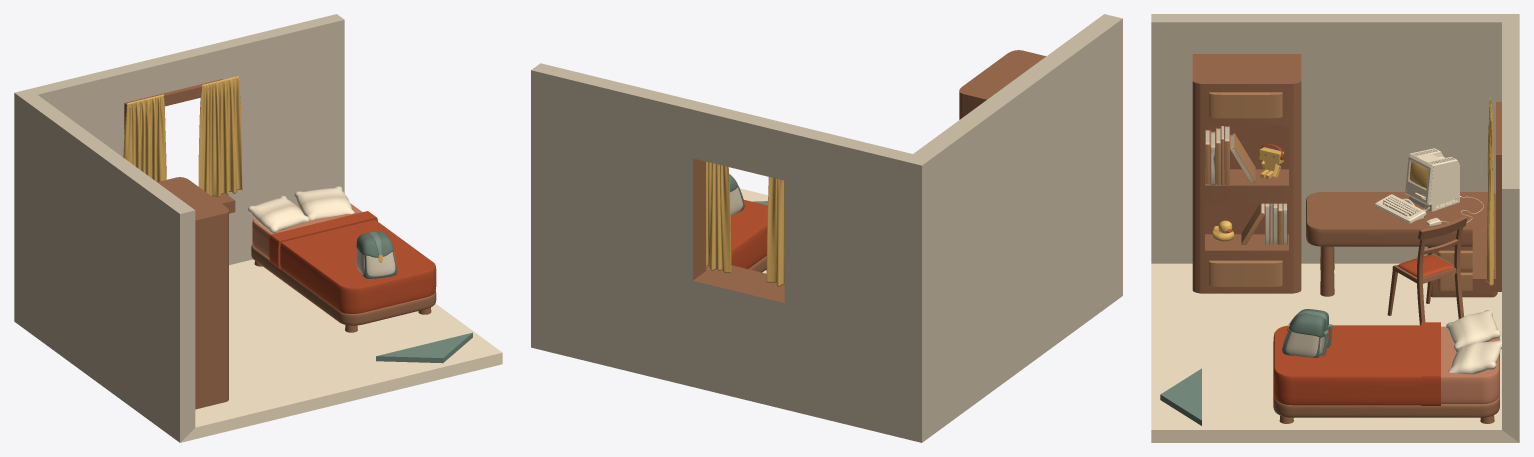
File: Cuarto.fbx
The picture shows the model from 3 angles, left to right: view 1: azimuth 30°, elevation 25°; view 2: azimuth 150°, elevation 25°; view 3: azimuth 270°, elevation 25°; orthographic projection. The views are drawn at different scales.
Parts seen in each view (by area): view 1: Pared, Colchon, Armario, Cortina der, Cortina izq, Patas cama, Maleta, Salida, Almohada.001, Almohada; view 2: Pared, Cortina der, Armario, Colchon, Cortina izq; view 3: Pared, Armario, Colchon, Tabla, pc, Chair, Patas cama, Books, Maleta, Almohada, Books2, Salida (+5 smaller).
Part boxes in pixels (left/top/right/bottom): Pared: left=14, top=14, right=502, bottom=442; Colchon: left=252, top=203, right=436, bottom=313; Armario: left=157, top=177, right=228, bottom=409; Cortina der: left=198, top=76, right=242, bottom=197; Cortina izq: left=123, top=94, right=166, bottom=181; Patas cama: left=251, top=244, right=436, bottom=332; Maleta: left=356, top=231, right=397, bottom=278; Salida: left=376, top=332, right=472, bottom=363; Almohada.001: left=294, top=186, right=354, bottom=220; Almohada: left=247, top=195, right=309, bottom=233; Pared: left=531, top=14, right=1122, bottom=442; Cortina der: left=706, top=161, right=731, bottom=273; Armario: left=959, top=50, right=1045, bottom=119; Colchon: left=730, top=200, right=767, bottom=268; Cortina izq: left=766, top=177, right=784, bottom=286; Pared: left=1151, top=14, right=1519, bottom=442; Armario: left=1192, top=54, right=1301, bottom=293; Colchon: left=1273, top=322, right=1499, bottom=405; Tabla: left=1306, top=192, right=1497, bottom=297; pc: left=1375, top=148, right=1483, bottom=226; Chair: left=1387, top=216, right=1467, bottom=325; Patas cama: left=1273, top=388, right=1499, bottom=423; Books: left=1205, top=126, right=1255, bottom=184; Maleta: left=1282, top=309, right=1332, bottom=357; Almohada: left=1446, top=310, right=1500, bottom=349; Books2: left=1241, top=203, right=1287, bottom=244; Salida: left=1160, top=368, right=1201, bottom=425.
Size of the model in its own units: 776 by 526 by 691.
